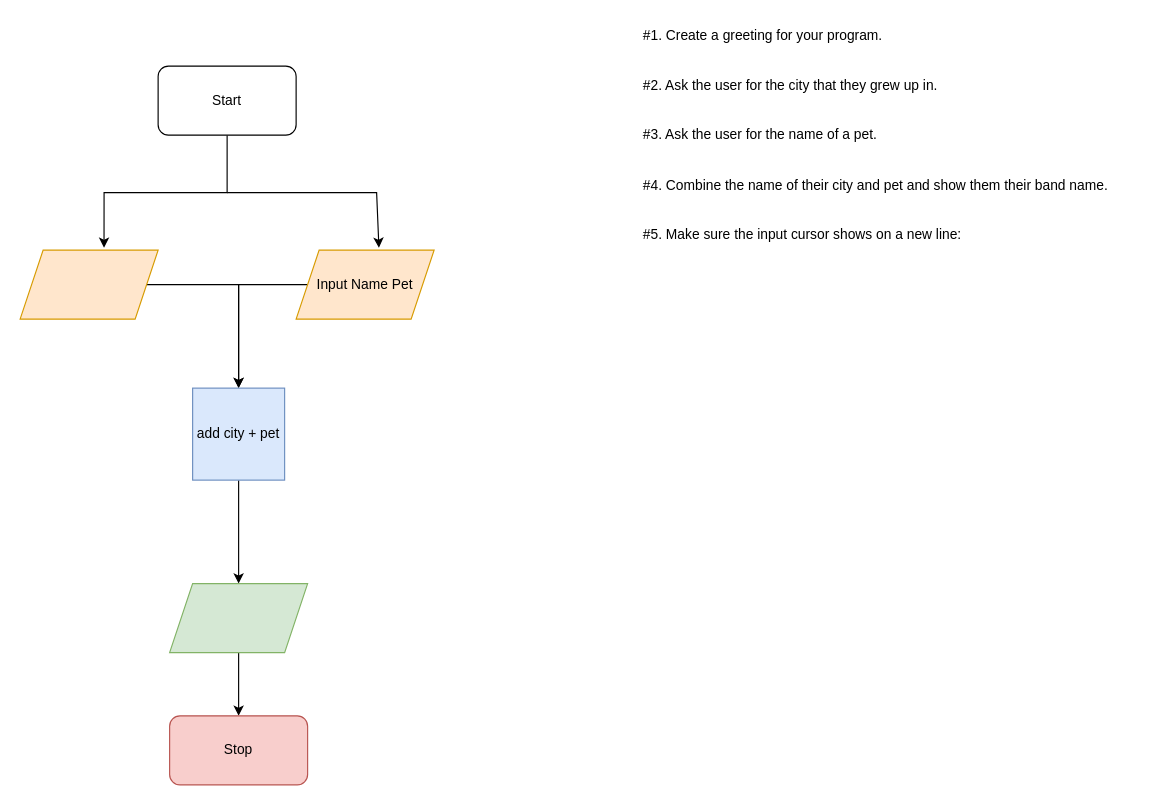
Some shapes in this 1167 by 805 pixel diagram are drawn without their labels. The shapes that lost their labels are listed below. From the top down, each one's centre as x and y in pixels, then its label:
At point 88,284: "Input User City".
At point 238,617: "Output CIty Pet".
